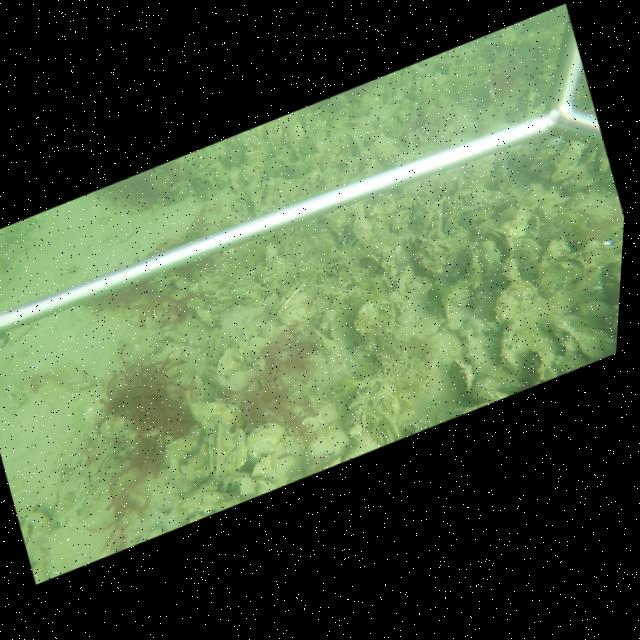Oyster-Closed: (492, 280, 537, 327), (411, 234, 453, 280), (189, 398, 245, 432), (245, 421, 287, 464), (499, 320, 527, 376), (271, 282, 307, 321), (481, 226, 516, 260), (349, 391, 370, 447), (450, 358, 477, 399), (215, 344, 244, 378), (244, 173, 265, 219), (285, 112, 305, 160), (229, 426, 248, 476), (319, 215, 346, 249), (351, 210, 373, 250), (198, 288, 233, 305), (206, 328, 221, 366), (347, 132, 364, 162), (264, 157, 286, 178)
Oyster-Indeterminate: (350, 296, 383, 349), (373, 134, 396, 159)
Oyster-Open: (534, 254, 589, 300), (207, 423, 226, 479)
